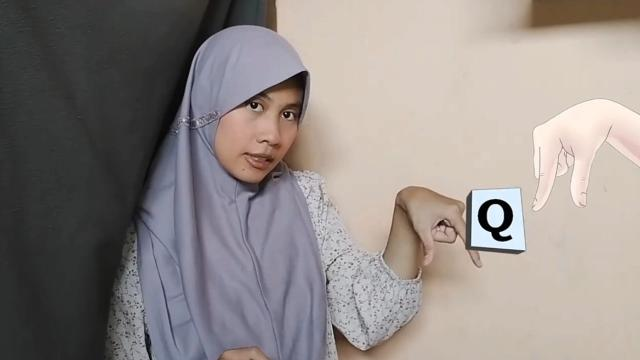Q: (392, 182, 484, 278)
